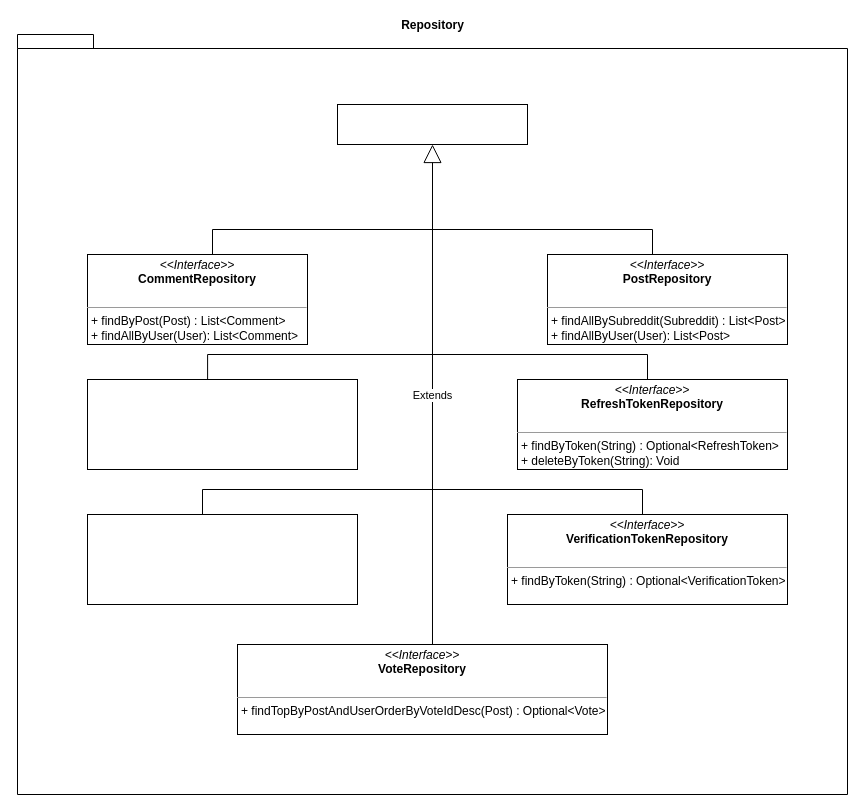
This 865x812 diagram has some shape labels left out. The centre of each missing label's shape, as x and y in pixels:
"<<Interface>> JpaRepository<T, ID>" goes at point (432, 124).
"<<Interface>> SubredditRepository + findByName (String) : Optional<Subreddit>" goes at point (222, 424).
"<<Interface>> UserRepository + findByUsername (String) : Optional<User>" goes at point (222, 559).
